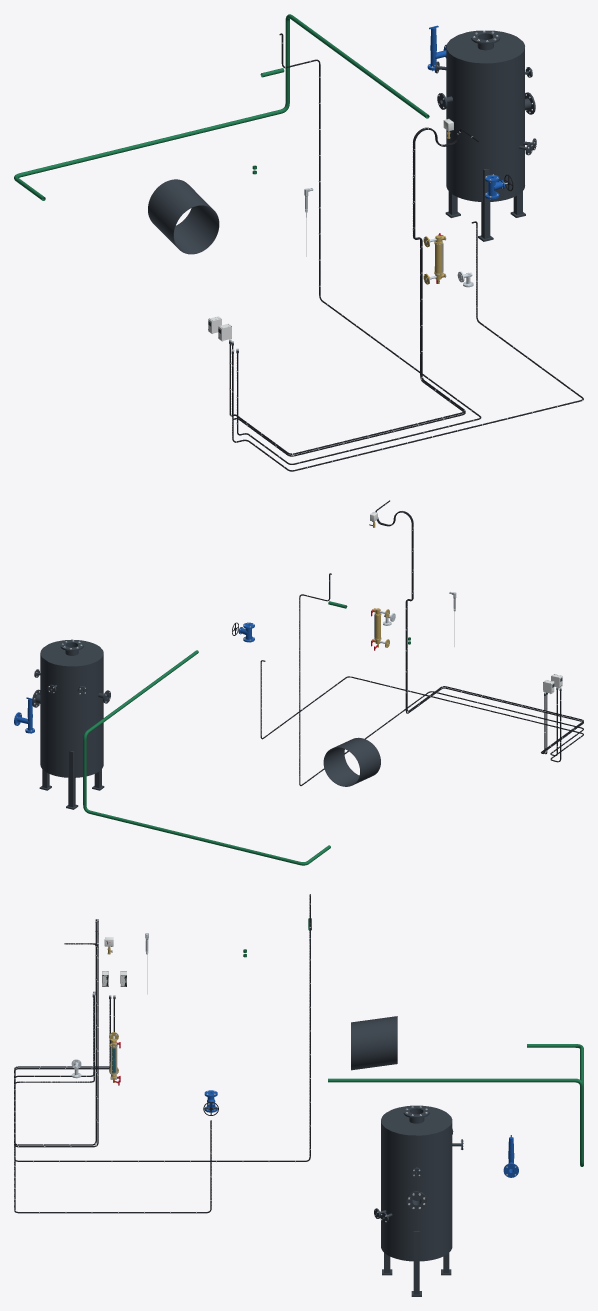
3 views of the same model, one above another, from view 1: azimuth 30°, elevation 25°; view 2: azimuth 150°, elevation 25°; view 3: azimuth 270°, elevation 25° (orthographic). The views are drawn at different scales.
Visible parts, largest first — view 1: separator_bdv60_5 / dark, 500 mm offset flue, to_economizer / green, mod_direct_drive_cable / black, wiring_pump_1 / black, wiring_pressure_switch_2 / black, wiring_pressure_switch_1 / black, sight_glasses_1 / sight_glasses_1_0.npz; view 2: separator_bdv60_5 / dark, 500 mm offset flue, to_economizer / green, mod_direct_drive_cable / black, wiring_pressure_switch_1 / black, wiring_pump_1 / black, wiring_pressure_switch_2 / black; view 3: separator_bdv60_5 / dark, 500 mm offset flue, to_economizer / green, mod_direct_drive_cable / black, wiring_pressure_switch_2 / black, wiring_pressure_switch_1 / black, wiring_pump_1 / black.
Part boxes in pixels (box(x1,y1,x2,y2)): separator_bdv60_5 / dark: box(435, 30, 536, 241); 500 mm offset flue: box(148, 179, 219, 254); to_economizer / green: box(14, 14, 429, 200); mod_direct_drive_cable / black: box(237, 33, 481, 464); wiring_pump_1 / black: box(232, 221, 583, 471); wiring_pressure_switch_2 / black: box(229, 128, 465, 454); wiring_pressure_switch_1 / black: box(232, 127, 478, 456); sight_glasses_1 / sight_glasses_1_0.npz: box(423, 233, 446, 284); separator_bdv60_5 / dark: box(32, 639, 110, 809); 500 mm offset flue: box(323, 737, 380, 786); to_economizer / green: box(83, 650, 330, 865); mod_direct_drive_cable / black: box(299, 573, 583, 785); wiring_pressure_switch_1 / black: box(375, 500, 583, 754); wiring_pump_1 / black: box(260, 660, 583, 762); wiring_pressure_switch_2 / black: box(376, 508, 583, 753); separator_bdv60_5 / dark: box(374, 1105, 462, 1296); 500 mm offset flue: box(351, 1016, 397, 1070); to_economizer / green: box(328, 1044, 583, 1166); mod_direct_drive_cable / black: box(14, 894, 310, 1161); wiring_pressure_switch_2 / black: box(14, 919, 114, 1145); wiring_pressure_switch_1 / black: box(14, 919, 110, 1147); wiring_pump_1 / black: box(14, 997, 211, 1213).
Bounding box in the file's own units: 5.41 × 3.18 × 6.1.
